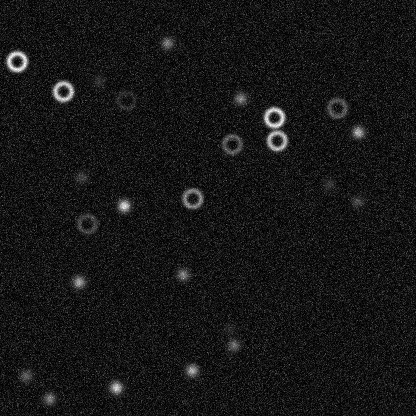Ring: (219, 132, 243, 156), (114, 88, 138, 112), (262, 105, 286, 129), (4, 49, 28, 73), (325, 95, 349, 119), (180, 186, 204, 210), (264, 128, 288, 152), (51, 79, 75, 103), (75, 211, 99, 235)
Spot: (41, 390, 57, 406), (183, 362, 199, 378), (350, 124, 366, 140), (18, 367, 34, 383), (90, 72, 106, 88), (70, 273, 86, 289), (232, 90, 248, 106), (115, 197, 131, 213), (107, 379, 123, 395), (349, 193, 365, 209), (221, 321, 237, 337), (320, 176, 336, 192), (73, 168, 89, 184), (159, 35, 175, 51), (225, 337, 241, 353), (174, 266, 190, 282)
